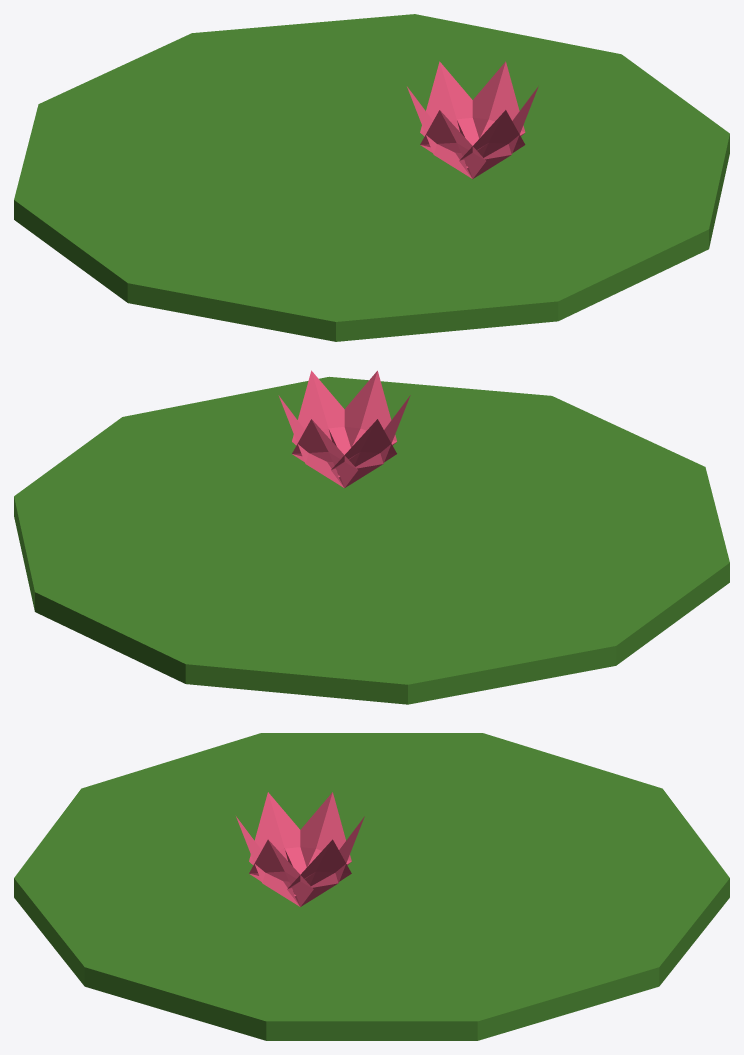
File: lily_pad.glb
3 renders of one model, top to bottom at view 1: azimuth 30°, elevation 25°; view 2: azimuth 150°, elevation 25°; view 3: azimuth 270°, elevation 25°, orthographic. The views are drawn at different scales.
Visible parts, largest first — view 1: lily, flower_pink; view 2: lily, flower_pink; view 3: lily, flower_pink.
Part boxes in pixels (<box>): lily: <box>14,14,729,341</box>; flower_pink: <box>407,61,538,178</box>; lily: <box>14,376,729,704</box>; flower_pink: <box>278,370,410,487</box>; lily: <box>14,733,729,1040</box>; flower_pink: <box>236,792,364,906</box>.
Bounding box in the file's own units: 0.953 × 0.1711 × 1.
